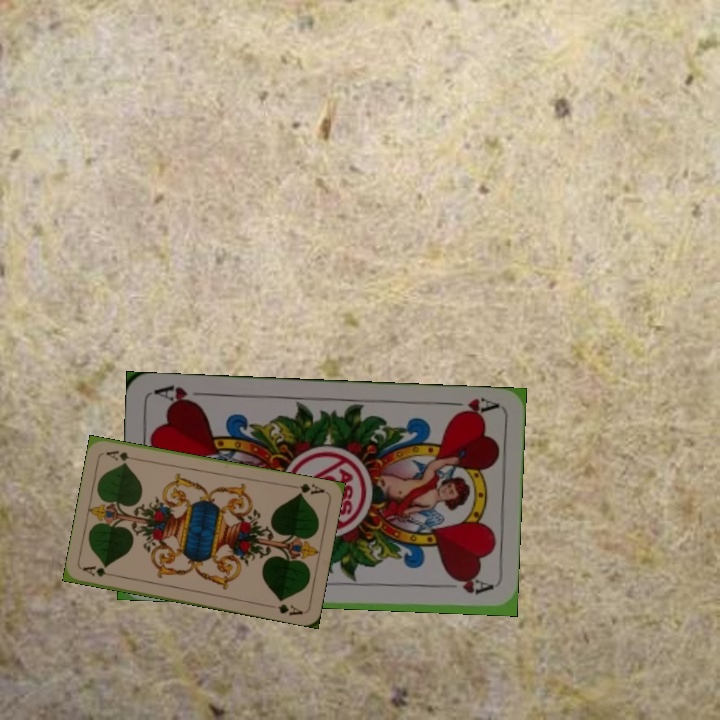GA: (287, 479, 327, 498), (79, 562, 120, 580)
HA: (440, 393, 499, 420)
